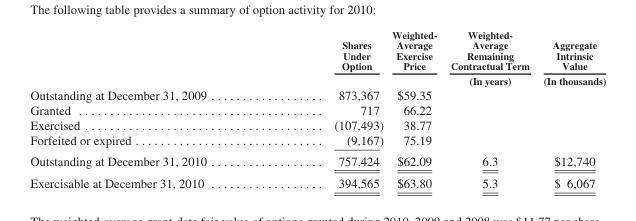table: (29, 28, 605, 190)
table column: (29, 28, 269, 190), (269, 28, 387, 190), (443, 28, 535, 190), (535, 28, 605, 190), (387, 28, 443, 190)
table column header: (29, 28, 605, 86)
table row: (29, 28, 605, 86), (29, 150, 605, 171), (29, 171, 605, 190), (29, 132, 605, 150), (29, 86, 605, 102), (29, 102, 605, 117), (29, 117, 605, 132)
